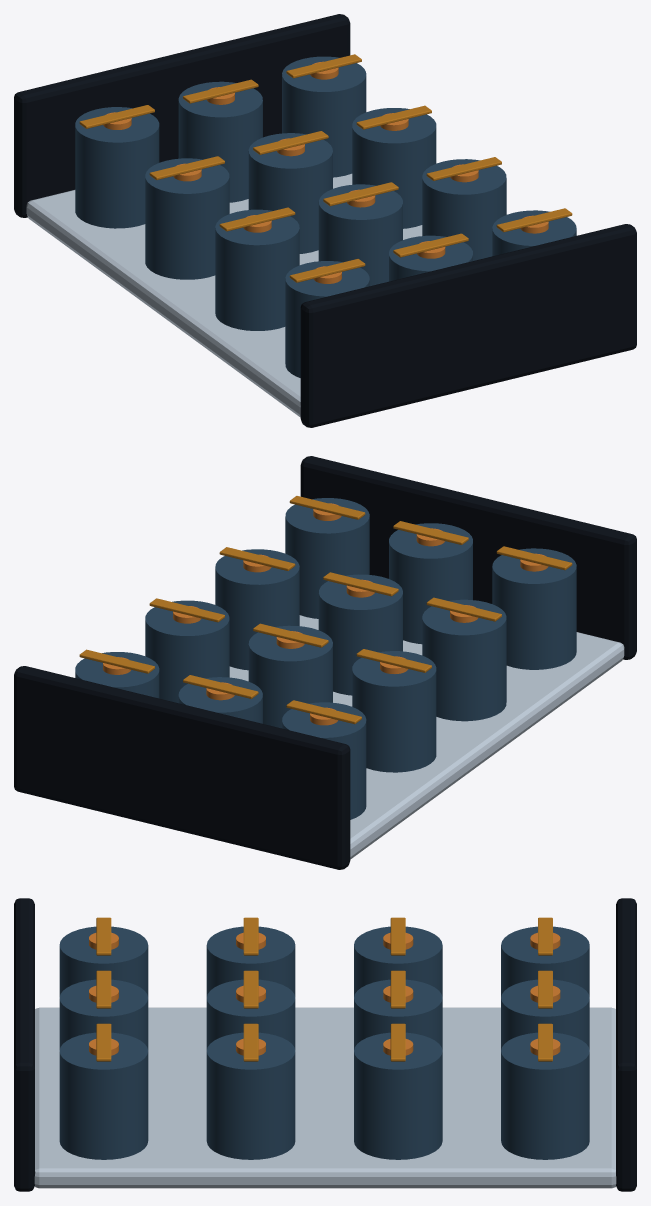
Rendered from Component_battery.glb.
3 views of the same model, one above another, from view 1: azimuth 30°, elevation 25°; view 2: azimuth 150°, elevation 25°; view 3: azimuth 270°, elevation 25° (orthographic). The views are drawn at different scales.
Visible parts, largest first — view 1: Battery_clamp, Battery_clamp.001, Battery_cradle, Battery_cell_03, Battery_cell_09, Battery_cell_06, Battery_cell_10, Battery_cell_11, Battery_cell_07, Battery_cell_08, Battery_cell_05, Battery_cell_04 (+15 smaller); view 2: Battery_clamp.001, Battery_clamp, Battery_cradle, Battery_cell_00, Battery_cell_06, Battery_cell_03, Battery_cell_02, Battery_cell_05, Battery_cell_04, Battery_cell_01, Battery_cell_08, Battery_cell_07 (+15 smaller); view 3: Battery_cradle, Battery_cell_02, Battery_cell_05, Battery_cell_08, Battery_cell_11, Battery_clamp, Battery_clamp.001, Battery_cell_03, Battery_cell_01, Battery_cell_04, Battery_cell_00, Battery_cell_06 (+15 smaller).
Part boxes in pixels (x1,y1,x2,y2): Battery_clamp: (300, 224, 636, 427); Battery_clamp.001: (14, 14, 350, 217); Battery_cradle: (26, 173, 422, 417); Battery_cell_03: (215, 209, 299, 330); Battery_cell_09: (75, 107, 159, 228); Battery_cell_06: (145, 158, 229, 279); Battery_cell_10: (178, 81, 262, 202); Battery_cell_11: (282, 56, 366, 177); Battery_cell_07: (248, 133, 332, 253); Battery_cell_08: (352, 108, 436, 228); Battery_cell_05: (422, 159, 506, 260); Battery_cell_04: (318, 184, 402, 286); Battery_clamp.001: (14, 666, 350, 869); Battery_clamp: (300, 456, 636, 659); Battery_cradle: (229, 615, 624, 859); Battery_cell_00: (492, 548, 576, 669); Battery_cell_06: (352, 651, 436, 772); Battery_cell_03: (422, 599, 506, 721); Battery_cell_02: (285, 498, 369, 618); Battery_cell_05: (215, 549, 299, 670); Battery_cell_04: (318, 574, 402, 695); Battery_cell_01: (389, 523, 472, 644); Battery_cell_08: (145, 600, 229, 703); Battery_cell_07: (248, 625, 332, 728); Battery_cradle: (34, 1007, 616, 1188); Battery_cell_02: (59, 1032, 148, 1159); Battery_cell_05: (206, 1032, 295, 1159); Battery_cell_08: (354, 1032, 442, 1159); Battery_cell_11: (501, 1032, 589, 1159); Battery_clamp: (14, 898, 34, 1191); Battery_clamp.001: (616, 898, 636, 1191); Battery_cell_03: (206, 926, 295, 997); Battery_cell_01: (59, 979, 148, 1050); Battery_cell_04: (206, 979, 295, 1050); Battery_cell_00: (59, 926, 148, 997); Battery_cell_06: (354, 926, 442, 997).
Bounding box in the file's own units: 0.48 × 0.17 × 0.745.
